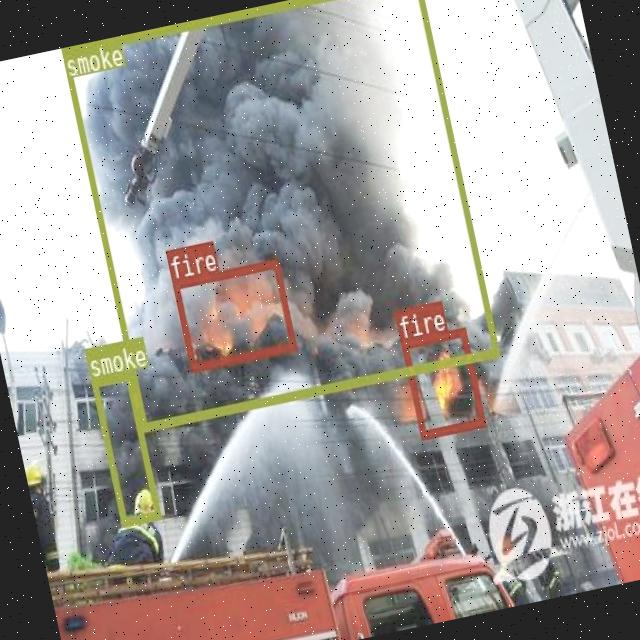fire: (170, 256, 295, 370), (400, 325, 484, 438)
smoke: (59, 0, 498, 429), (89, 370, 160, 526)
